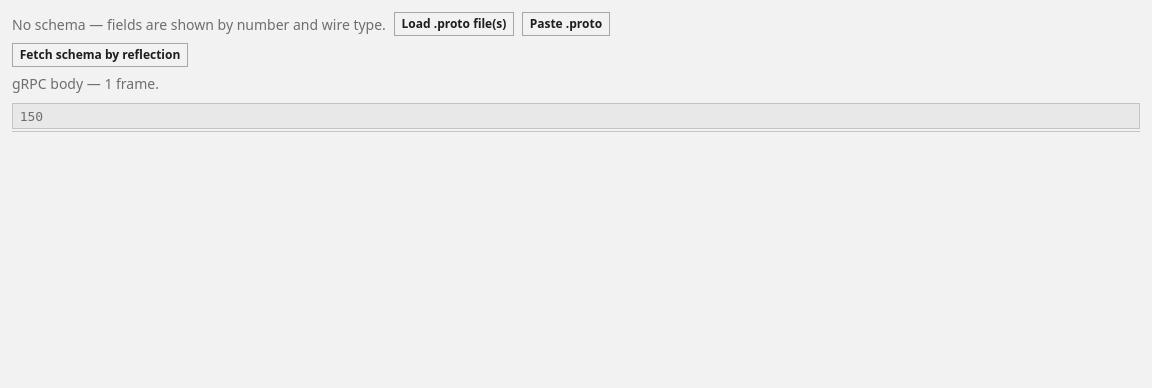
Test: reflect-decode on the Protobuf tab › the result names its provenance: target-claimed, with the fetched files
Click the button "Fetch schema by reflection".
click(100, 55)  # box [12,43,188,67]
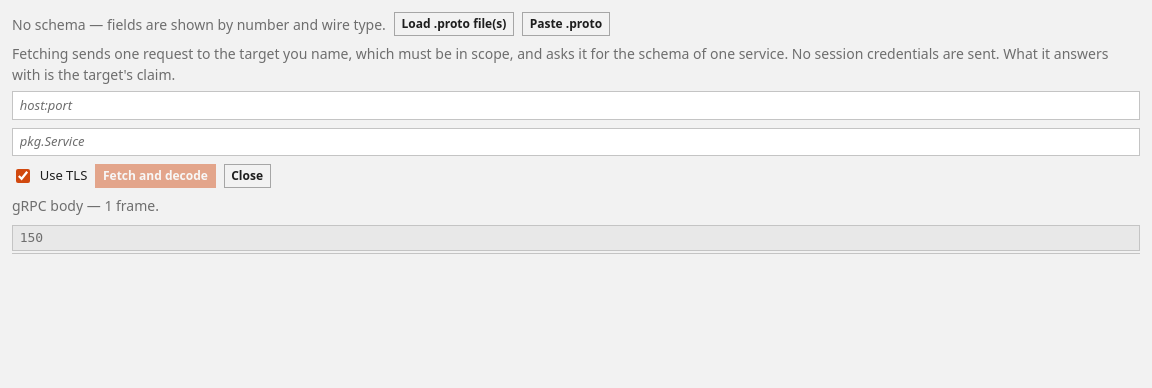
Type "api.test:443" into the field named "Reflection target (host:port)".
click(576, 106); type("api.test:443")  # box [12,91,1140,120]
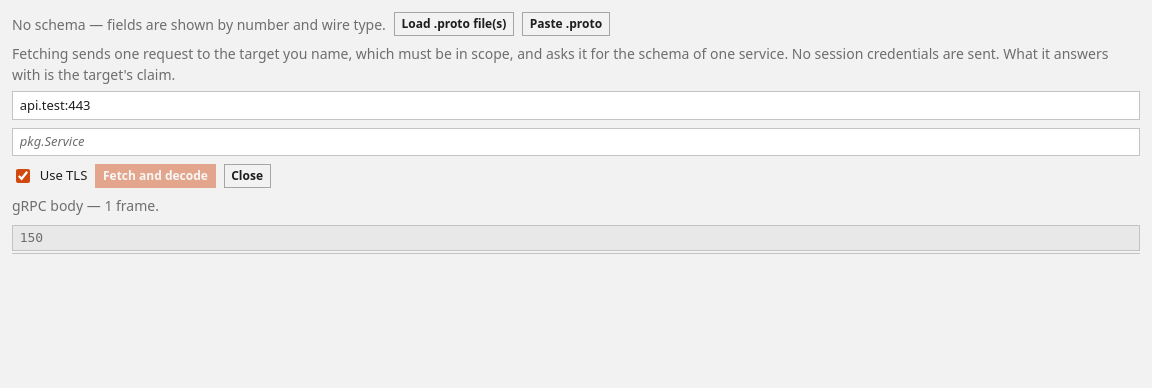
Type "acme.v1.Users" into the field named "gRPC service".
click(576, 142); type("acme.v1.Users")  # box [12,128,1140,156]
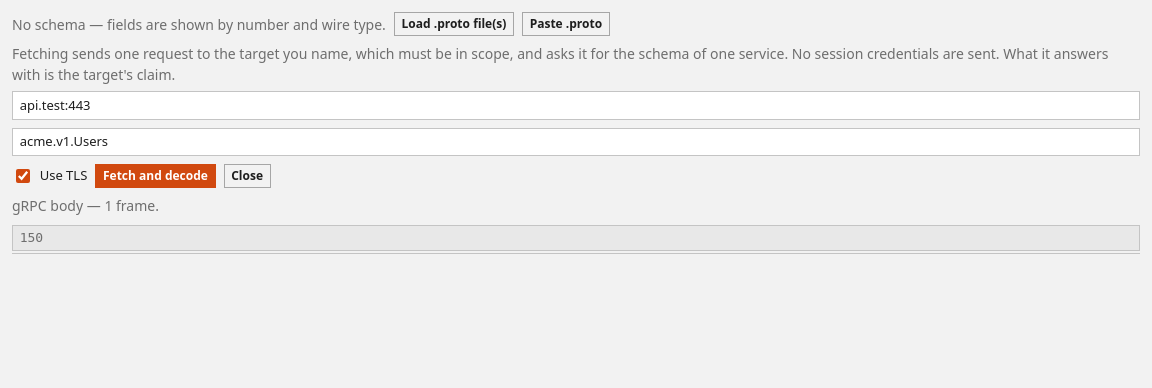
Click the button "Fetch and decode".
click(155, 176)  # box [95,164,216,188]
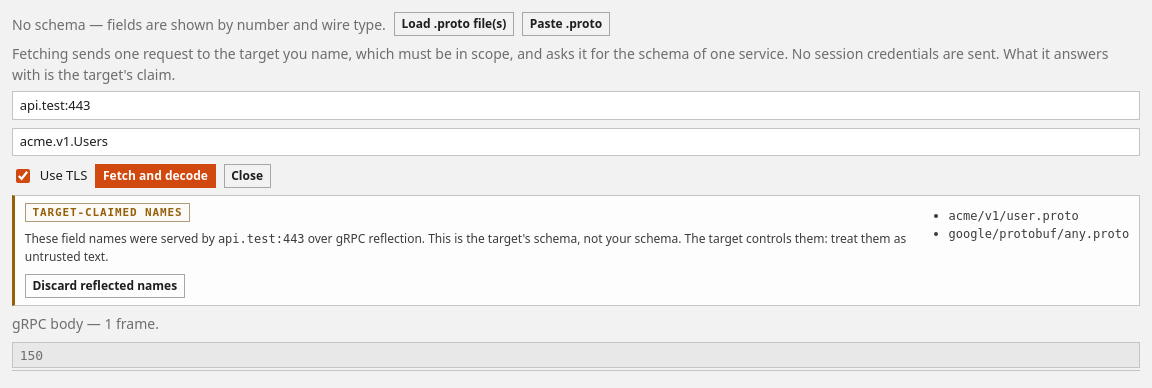
Result: the element named "Schema provenance" shows "api.test:443" at [218,232,305,246]
Result: the element named "Schema provenance" shows "target-claimed" at [32,206,183,219]
Result: the element named "Schema provenance" shows "not your schema" at [25,230,906,265]
